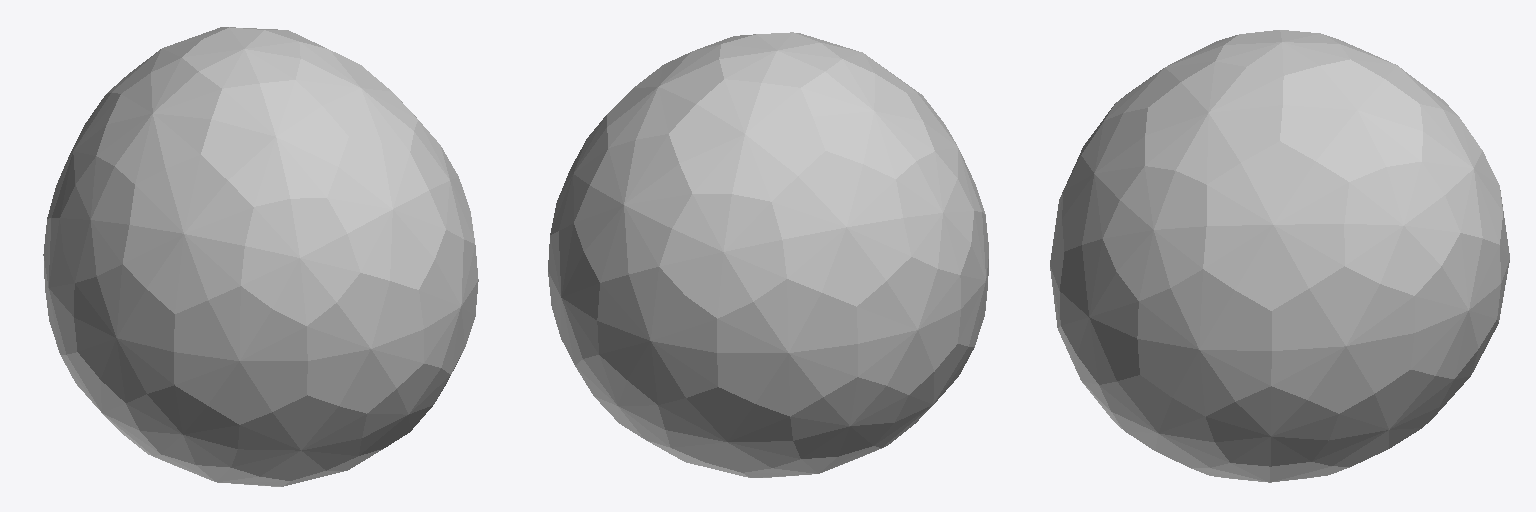
File: Projektil.obj
3 views of the same model, side by side, from view 1: azimuth 30°, elevation 25°; view 2: azimuth 150°, elevation 25°; view 3: azimuth 270°, elevation 25° (orthographic).
Visible parts, largest first — view 1: Projektil; view 2: Projektil; view 3: Projektil.
Part boxes in pixels (x1,y1,x2,y2): Projektil: (43,27,478,486); Projektil: (548,32,988,477); Projektil: (1050,30,1509,482).
Bounding box in the file's own units: 0.1232 × 0.1309 × 0.1308.